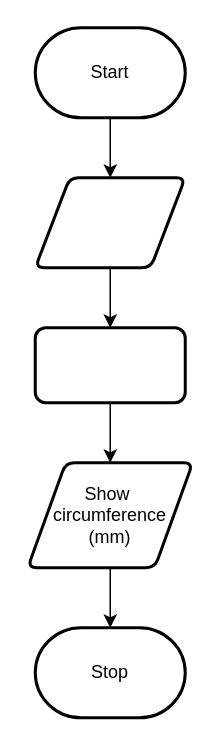
The diagram is 219 pixels wide and 744 high, and some of its shapes have lost their labels. The centre of each missing label's shape, as x and y in pixels:
"C = r * τ" goes at pixel 109 365.
"User enters radius of circle(mm)" goes at pixel 109 222.
